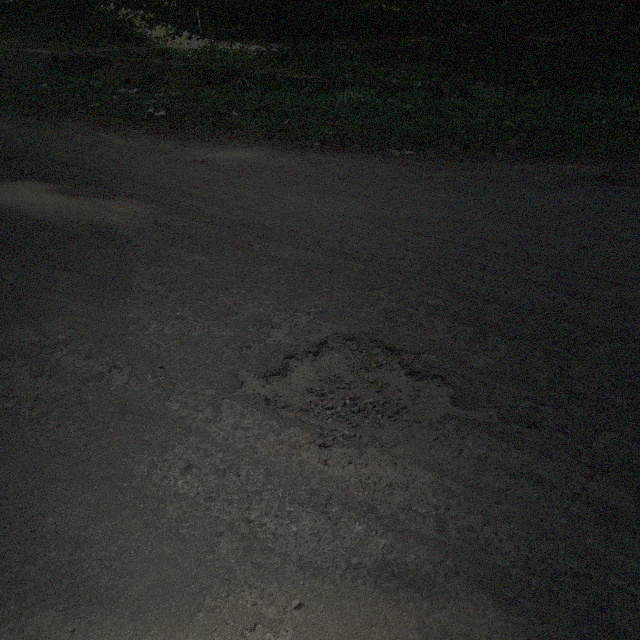pothole: (229, 329, 473, 447)
